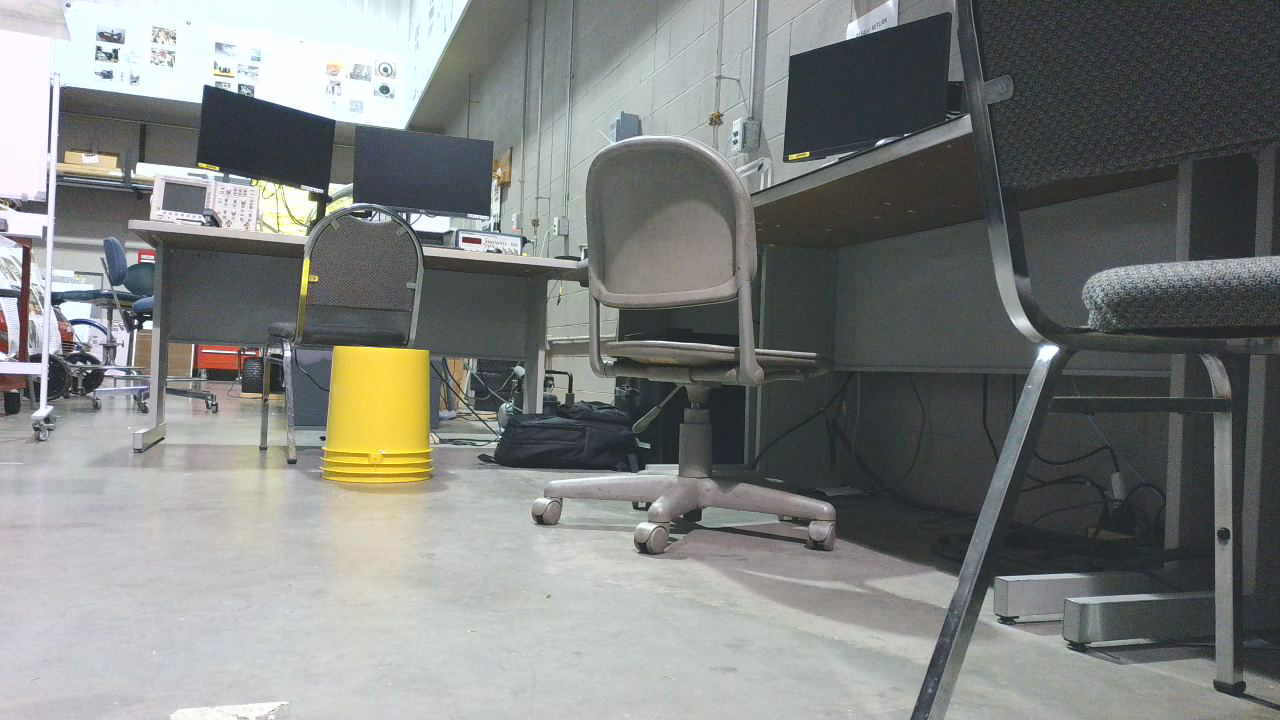yellow_bucket: (323, 352, 441, 489)
